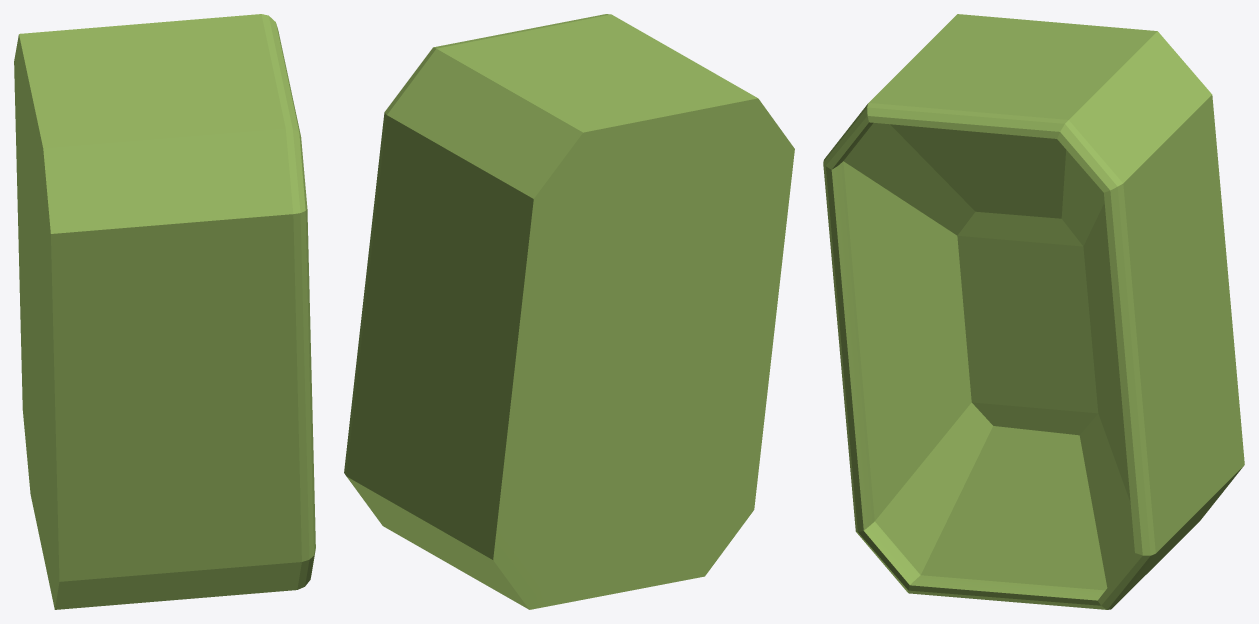
Rendered from BR5_8shapes_Emerald_Classic_Metal.001 3.glb.
The picture shows the model from 3 angles, left to right: view 1: azimuth 30°, elevation 25°; view 2: azimuth 150°, elevation 25°; view 3: azimuth 270°, elevation 25°; orthographic projection. The views are drawn at different scales.
Visible parts, largest first — view 1: BR5_8shapes_Emerald_Classic_Metal.001; view 2: BR5_8shapes_Emerald_Classic_Metal.001; view 3: BR5_8shapes_Emerald_Classic_Metal.001.
Boxes of the visible parts, x1,y1,x2,y2 form: BR5_8shapes_Emerald_Classic_Metal.001: (14,14,315,609); BR5_8shapes_Emerald_Classic_Metal.001: (344,14,794,609); BR5_8shapes_Emerald_Classic_Metal.001: (823,14,1244,609).
Size of the model in its own units: 0.4428 by 0.6245 by 0.4777.
